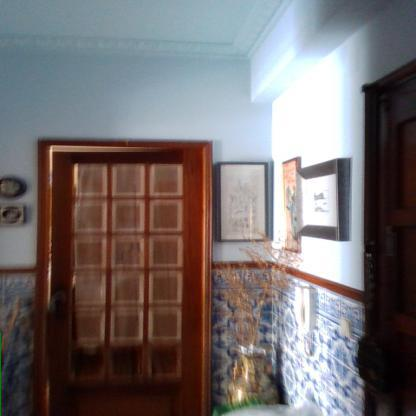door: (51, 149, 205, 415)
knob: (53, 295, 64, 306)
